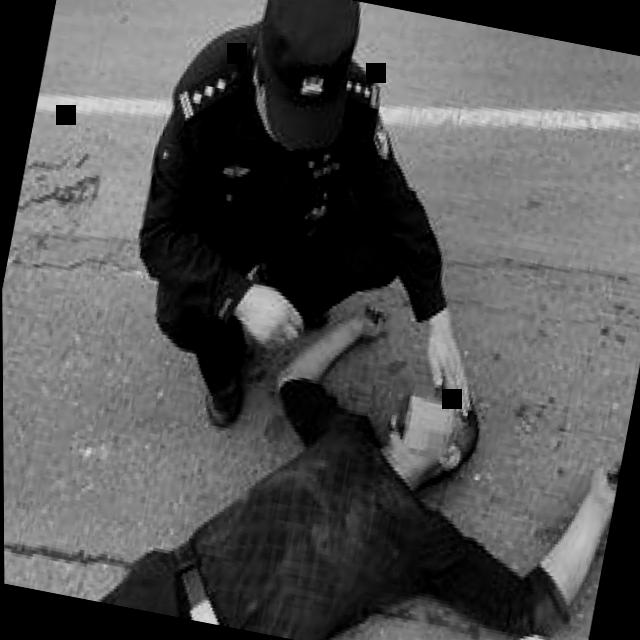Fall-Detected: (15, 225, 640, 640)
